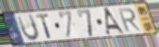7: (76, 8, 94, 38), (57, 11, 74, 40)
A: (105, 7, 126, 36)
R: (117, 7, 143, 33)
T: (35, 13, 53, 40)
U: (15, 13, 41, 42)
